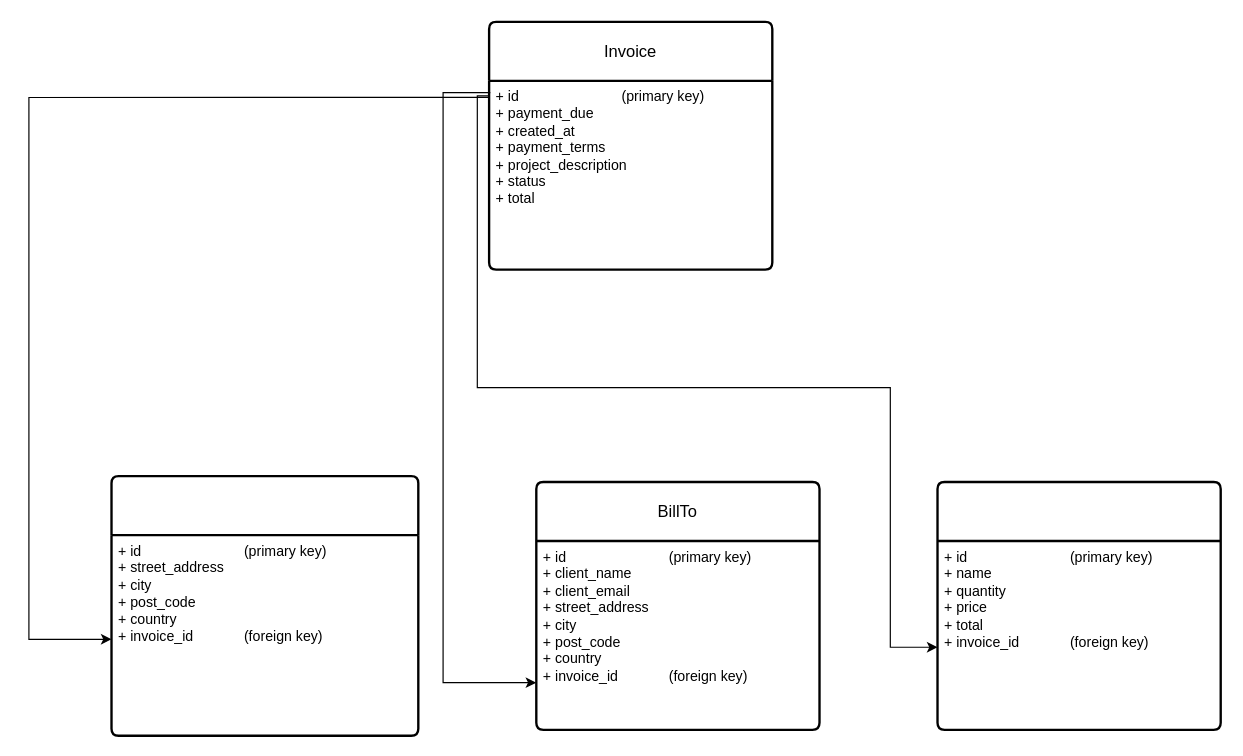
This 1243x756 diagram has some shape labels left out. The shapes that lost their labels are listed below. From the top down, each one's box as (x1, y1, x2, y2) in pixels, then its label:
(110, 474, 419, 736): BillFrom
(936, 480, 1221, 730): ItemList
